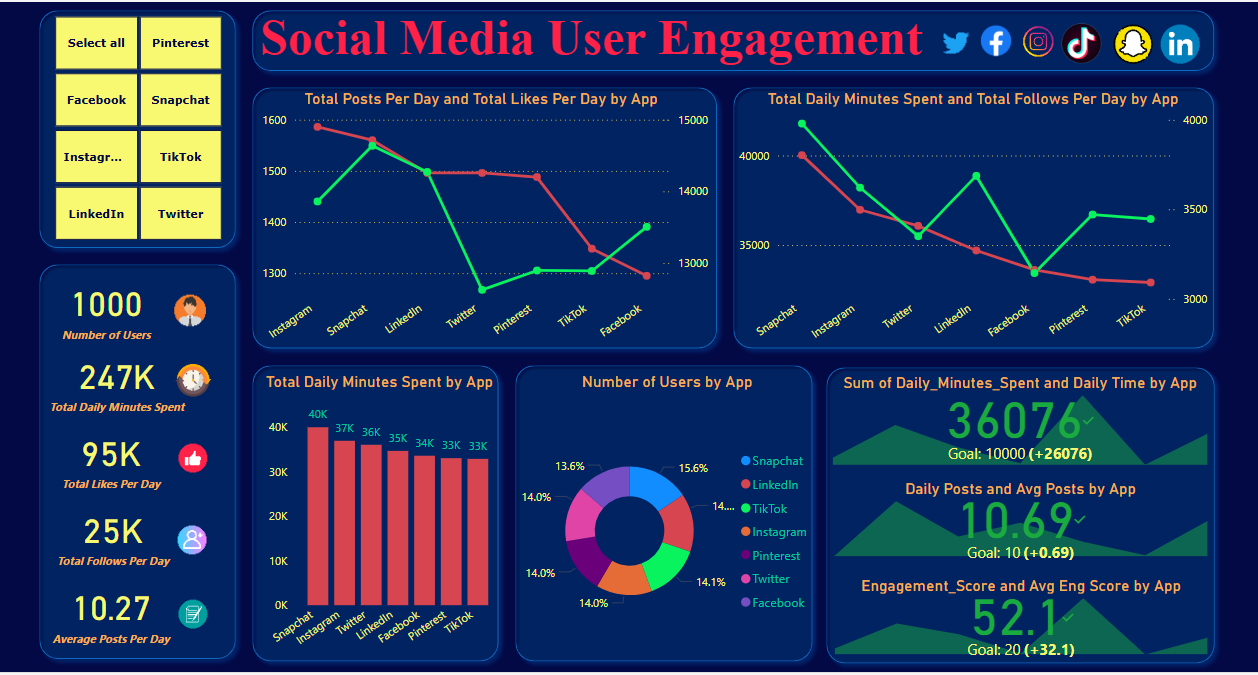

This screenshot's page, from the dashboard's own definition file:
{"tool":"powerbi","page":{"name":"Page 1","canvas":[1280,720],"ordinal":0},"visuals":[{"type":"shape","box":[845.3,383.9,435.2,336.1],"z":0},{"type":"shape","box":[229,0,1051.5,83.2],"z":1000},{"type":"shape","box":[0,273.4,229,442],"z":2000},{"type":"card","fields":{"Values":["Count(social_media_usage.User_ID)"]},"box":[11.4,291.6,137.8,77.5],"z":3000},{"type":"image","box":[143.5,309.9,53.5,44.4],"z":4000},{"type":"textbox","box":[234.7,2.3,735.9,108.2],"z":5000},{"type":"card","fields":{"Values":["Sum(social_media_usage.Daily_Minutes_Spent)"]},"box":[10.3,369.1,162.9,78.6],"z":6000},{"type":"card","fields":{"Values":["Avg(social_media_usage.Posts_Per_Day)"]},"box":[10.3,614.1,150.4,85.4],"z":7000},{"type":"card","fields":{"Values":["Sum(social_media_usage.Likes_Per_Day)"]},"box":[10.3,448.9,150.4,83.2],"z":8000},{"type":"card","fields":{"Values":["Sum(social_media_usage.Follows_Per_Day)"]},"box":[12.5,533.2,150.4,80.9],"z":9000},{"type":"image","box":[151.5,469.4,44.4,41],"z":10000},{"type":"image","box":[152.7,555.9,41,44.4],"z":11000},{"type":"image","box":[151.5,636.8,44.4,41],"z":12000},{"type":"image","box":[147,381.6,53.5,50.1],"z":13000},{"type":"shape","box":[0,0,229,273.4],"z":14000},{"type":"slicer","fields":{"Values":["social_media_usage.App"]},"box":[0,9.1,229,254.1],"z":15000},{"type":"shape","box":[229,381.6,282.5,336.1],"z":16000},{"type":"columnChart","fields":{"Category":["social_media_usage.App"],"Y":["Sum(social_media_usage.Daily_Minutes_Spent)"]},"box":[240.4,397.6,267.7,315.6],"z":17000},{"type":"shape","box":[229,83.2,517.2,298.5],"z":18000},{"type":"shape","box":[511.5,381.6,337.2,336.1],"z":19000},{"type":"donutChart","fields":{"Category":["social_media_usage.App"],"Y":["CountNonNull(social_media_usage.User_ID)"]},"box":[519.5,397.6,329.2,322.4],"z":20000},{"type":"lineChart","fields":{"Category":["social_media_usage.App"],"Y":["Sum(social_media_usage.Posts_Per_Day)"],"Y2":["Sum(social_media_usage.Likes_Per_Day)"]},"box":[234.7,93.4,499,290.5],"z":21000},{"type":"kpi","fields":{"TrendLine":["social_media_usage.App"],"Goal":["social_media_usage.Average Time (min)"],"Indicator":["Sum(social_media_usage.Daily_Minutes_Spent)"]},"box":[856.5,398.8,412.9,103.5],"z":22000},{"type":"shape","box":[746.2,83.2,534.3,298.5],"z":23000},{"type":"lineChart","fields":{"Category":["social_media_usage.App"],"Y":["Sum(social_media_usage.Daily_Minutes_Spent)"],"Y2":["Sum(social_media_usage.Follows_Per_Day)"]},"box":[755.3,93.4,513.8,290.5],"z":24000},{"type":"image","box":[1001.4,6.8,70.6,69.5],"z":25000},{"type":"image","box":[1059.5,20.5,45.6,44.4],"z":26000},{"type":"image","box":[1101.6,17.1,55.8,54.7],"z":27000},{"type":"image","box":[1158.6,18.2,52.4,53.5],"z":28000},{"type":"image","box":[1208.7,18.2,52.4,53.5],"z":29000},{"type":"image","box":[972.9,22.8,43.3,43.3],"z":30000},{"type":"kpi","fields":{"TrendLine":["social_media_usage.App"],"Indicator":["social_media_usage.Avg Posts"],"Goal":["social_media_usage.Avg Posts1"]},"box":[857.6,512.9,411.8,88.2],"z":31000},{"type":"kpi","fields":{"TrendLine":["social_media_usage.App"],"Indicator":["social_media_usage.Engagement_Score"],"Goal":["social_media_usage.Avg Eng Score"]},"box":[858.8,616.5,410.6,89.4],"z":32000}]}

Visuals, with their boxes on the page's 1280x720 design canvas (x1, y1, x2, y2). These are canvas units, not pixel positions in the 1258x675 screenshot, which may show the page scaled, cropped or inside an application window:
shape: detection(845, 384, 1280, 720)
shape: detection(229, 0, 1280, 83)
shape: detection(0, 273, 229, 715)
card - Count(social_media_usage.User_ID): detection(11, 292, 149, 369)
image: detection(144, 310, 197, 354)
textbox: detection(235, 2, 971, 110)
card - Sum(social_media_usage.Daily_Minutes_Spent): detection(10, 369, 173, 448)
card - Avg(social_media_usage.Posts_Per_Day): detection(10, 614, 161, 700)
card - Sum(social_media_usage.Likes_Per_Day): detection(10, 449, 161, 532)
card - Sum(social_media_usage.Follows_Per_Day): detection(12, 533, 163, 614)
image: detection(152, 469, 196, 510)
image: detection(153, 556, 194, 600)
image: detection(152, 637, 196, 678)
image: detection(147, 382, 200, 432)
shape: detection(0, 0, 229, 273)
slicer - social_media_usage.App: detection(0, 9, 229, 263)
shape: detection(229, 382, 512, 718)
columnChart - social_media_usage.App x Sum(social_media_usage.Daily_Minutes_Spent): detection(240, 398, 508, 713)
shape: detection(229, 83, 746, 382)
shape: detection(512, 382, 849, 718)
donutChart - social_media_usage.App x CountNonNull(social_media_usage.User_ID): detection(520, 398, 849, 720)
lineChart - social_media_usage.App x Sum(social_media_usage.Posts_Per_Day): detection(235, 93, 734, 384)
kpi - social_media_usage.App x social_media_usage.Average Time (min): detection(856, 399, 1269, 502)
shape: detection(746, 83, 1280, 382)
lineChart - social_media_usage.App x Sum(social_media_usage.Daily_Minutes_Spent): detection(755, 93, 1269, 384)
image: detection(1001, 7, 1072, 76)
image: detection(1060, 20, 1105, 65)
image: detection(1102, 17, 1157, 72)
image: detection(1159, 18, 1211, 72)
image: detection(1209, 18, 1261, 72)
image: detection(973, 23, 1016, 66)
kpi - social_media_usage.App x social_media_usage.Avg Posts: detection(858, 513, 1269, 601)
kpi - social_media_usage.App x social_media_usage.Engagement_Score: detection(859, 616, 1269, 706)
